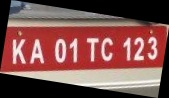character: (11, 38, 27, 65), (29, 38, 44, 65), (84, 36, 98, 62), (52, 37, 65, 62), (100, 36, 113, 61), (68, 35, 78, 63), (133, 36, 144, 60), (147, 35, 157, 59), (122, 36, 131, 62)
